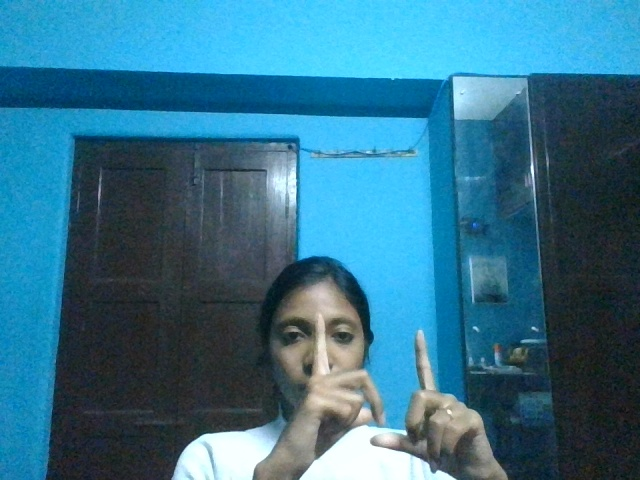D: (255, 317, 441, 463)
